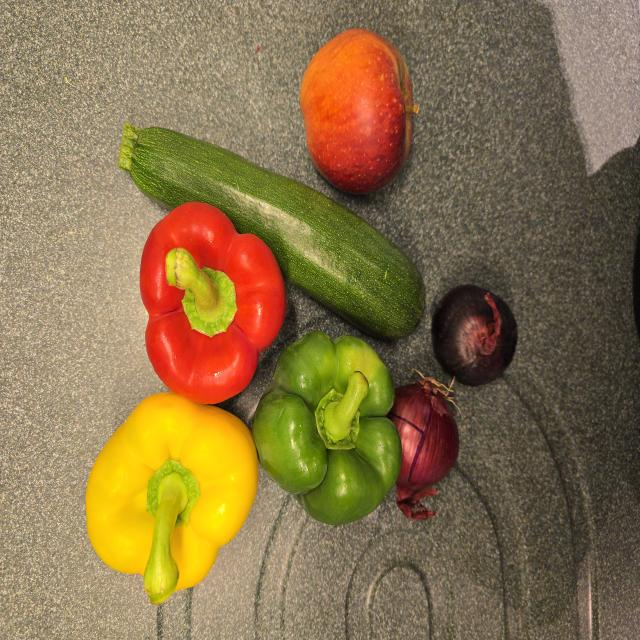Apple: (300, 28, 419, 193)
Bell Pepper: (86, 392, 258, 604), (140, 202, 285, 402), (254, 332, 399, 525)
Courgette: (119, 124, 425, 339)
Onion: (387, 378, 459, 519), (432, 285, 517, 386)
